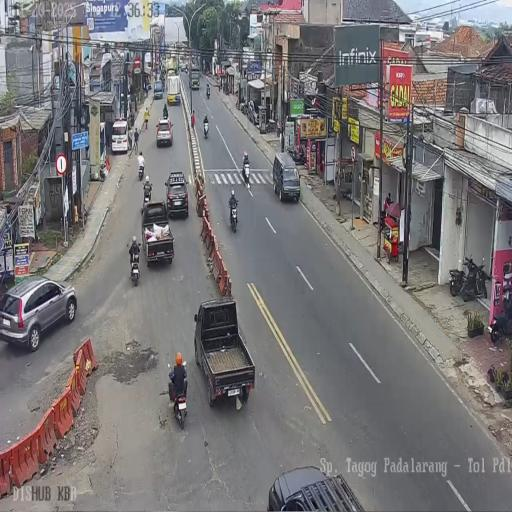car: (1, 276, 77, 350), (268, 465, 366, 510), (141, 200, 175, 266), (165, 171, 189, 219), (111, 118, 130, 154), (156, 117, 173, 148), (247, 100, 260, 125), (153, 79, 163, 99)
motorcycle: (460, 254, 488, 302), (169, 373, 187, 429), (488, 302, 512, 343), (127, 244, 141, 286), (449, 267, 465, 296), (286, 142, 305, 165), (228, 196, 238, 233), (141, 186, 151, 216), (242, 160, 251, 188), (240, 98, 249, 116), (138, 158, 145, 180), (203, 119, 209, 138), (276, 120, 281, 138), (206, 84, 210, 99), (218, 80, 221, 94)
truck: (188, 65, 201, 91), (166, 56, 177, 78), (144, 51, 151, 73), (179, 56, 186, 72)
